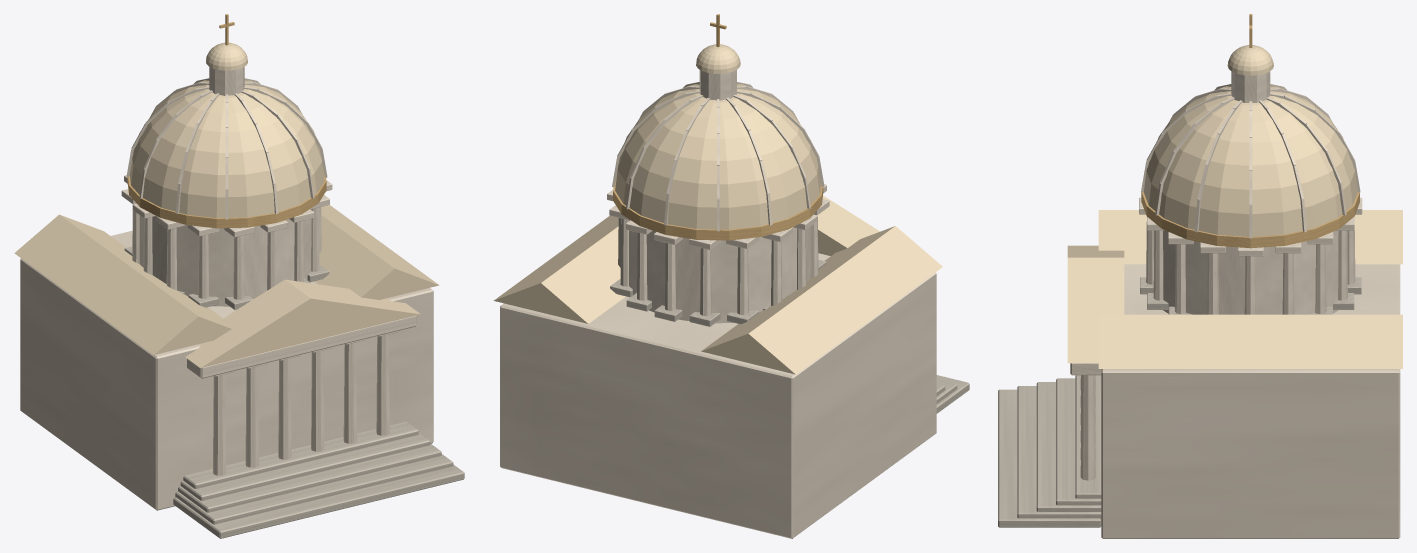
The model's file is les-invalides.glb.
The picture shows the model from 3 angles, left to right: view 1: azimuth 30°, elevation 25°; view 2: azimuth 150°, elevation 25°; view 3: azimuth 270°, elevation 25°; orthographic projection. The views are drawn at different scales.
Visible parts, largest first — view 1: les-invalides; view 2: les-invalides; view 3: les-invalides.
Part boxes in pixels (left/top/right/bottom): les-invalides: left=14, top=14, right=464, bottom=538; les-invalides: left=493, top=14, right=969, bottom=538; les-invalides: left=998, top=14, right=1402, bottom=538.
Bounding box in the file's own units: 7 × 9.65 × 7.85.
1 material, 1 textured.
